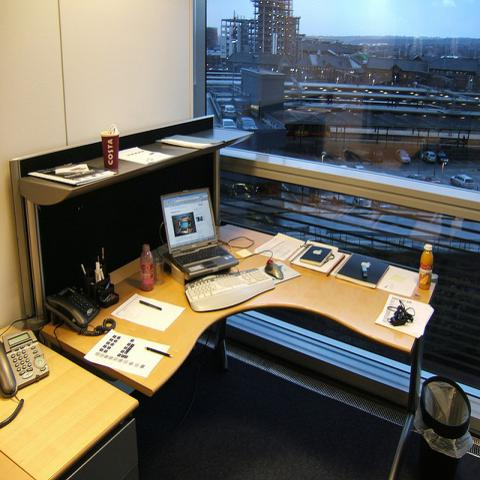car: (341, 144, 374, 168), (449, 173, 475, 188), (228, 184, 251, 200), (237, 116, 258, 130), (220, 104, 236, 121), (368, 147, 386, 162), (394, 150, 410, 164), (436, 150, 449, 165), (222, 118, 237, 129), (424, 151, 436, 164), (352, 198, 371, 206), (423, 176, 440, 183)
